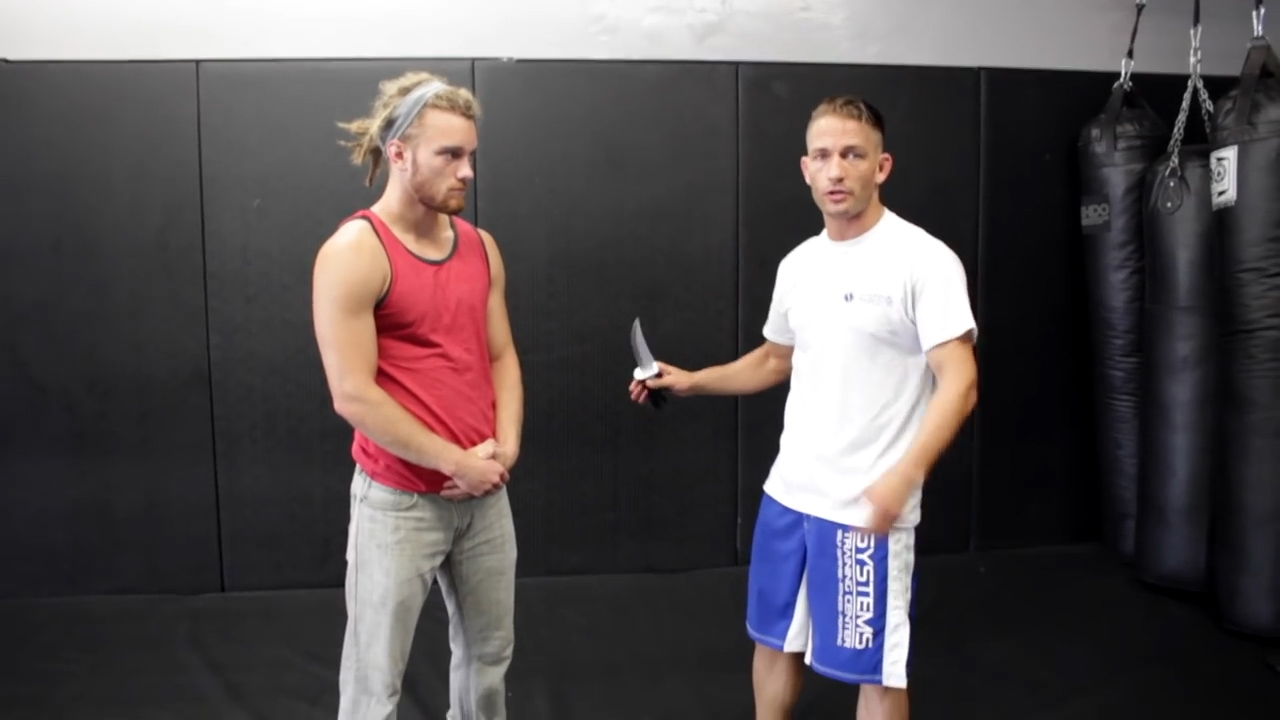knife: (612, 301, 685, 420)
